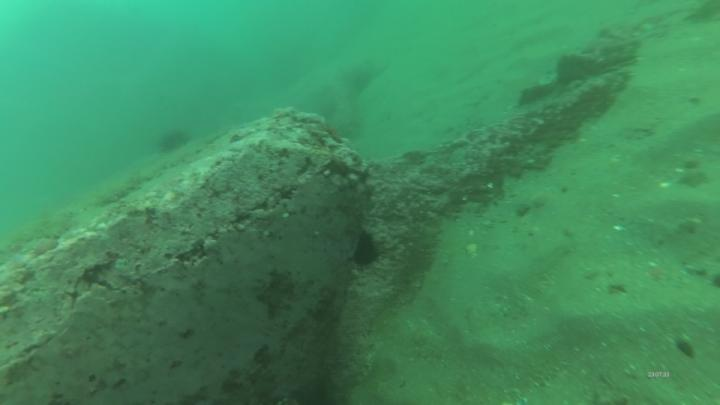echinus: (351, 225, 386, 275), (160, 127, 195, 154)
